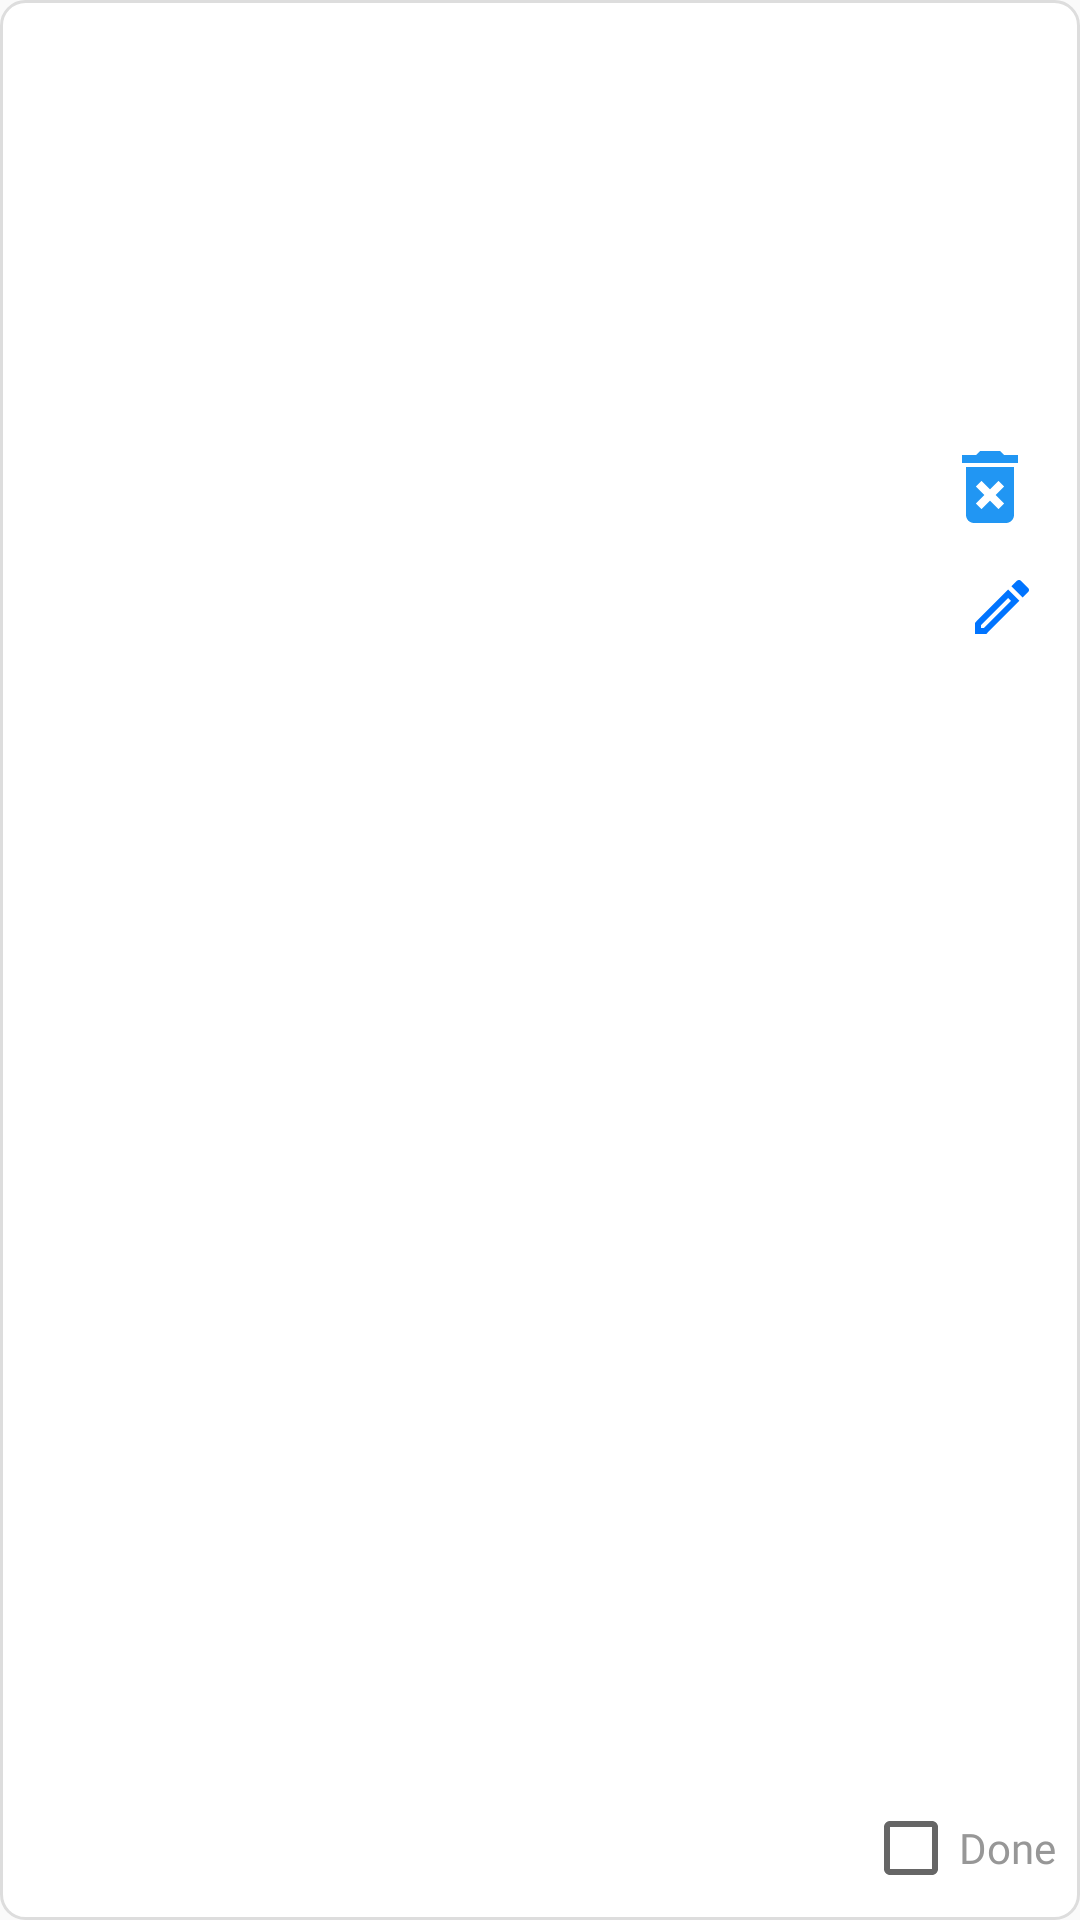

Point at icon controls on the screen. Image size 1080*1920, points as (x=x, y=y).
delete: (x=990, y=487)
edit: (x=1002, y=607)
